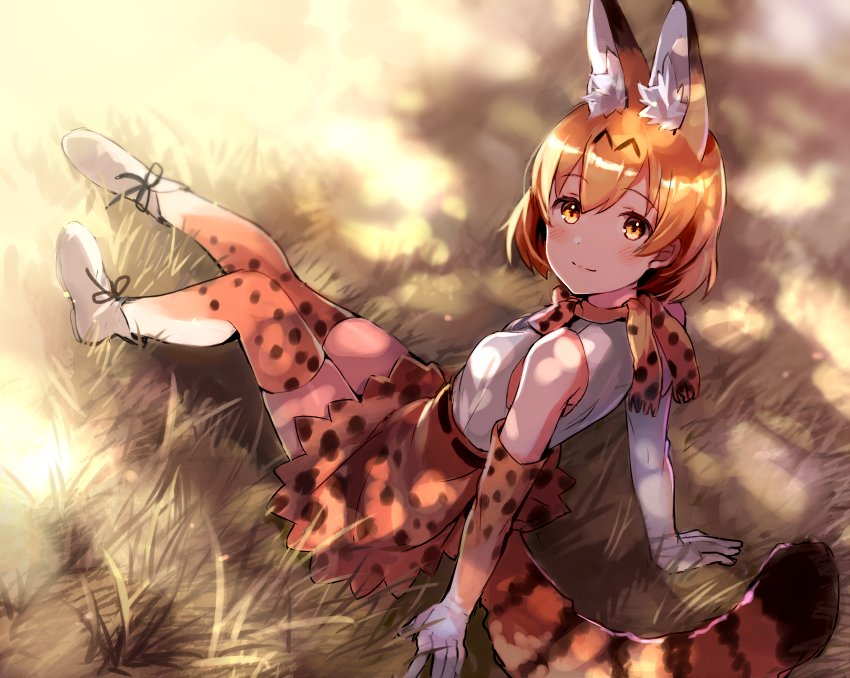纸片人正脸: (518, 53, 726, 299)
